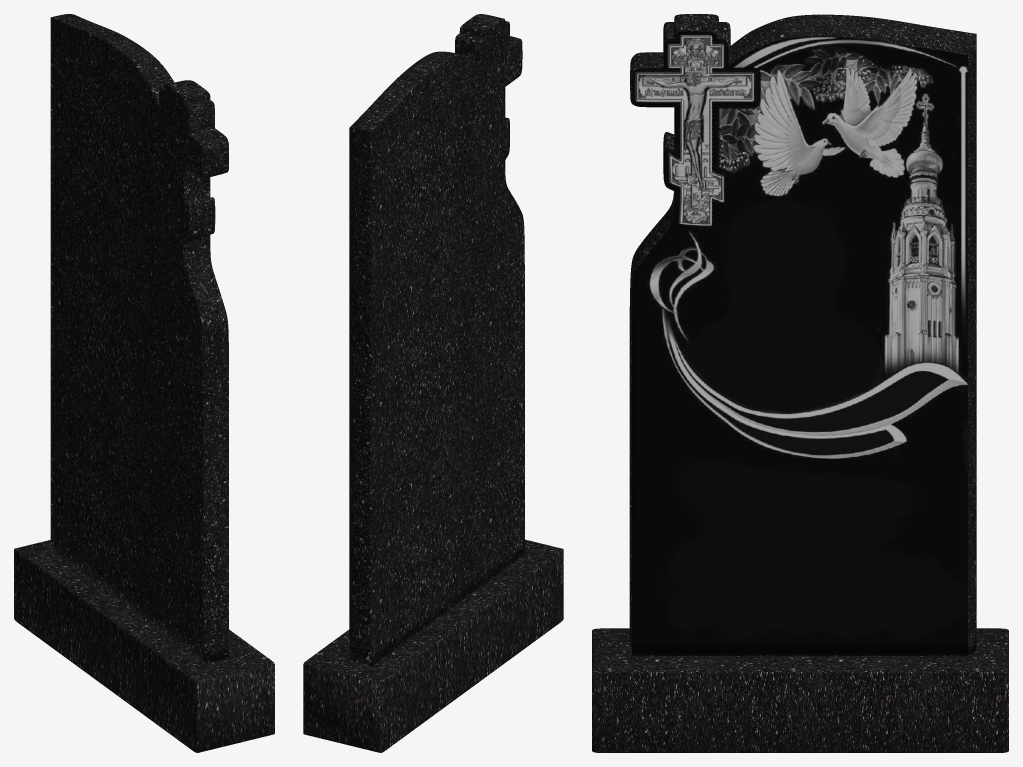
Rendered from Памятник Крест Голубь [granite_1_orthodox] (100).glb.
3 renders of one model, left to right at view 1: azimuth 30°, elevation 25°; view 2: azimuth 150°, elevation 25°; view 3: azimuth 270°, elevation 25°, orthographic. The views are drawn at different scales.
Parts seen in each view (by area): view 1: Plane, Куб.004; view 2: Plane, Куб.004; view 3: Plane, Куб.004.
Boxes of the visible parts, x1,y1,x2,y2 form: Plane: (50, 14, 228, 664); Куб.004: (14, 540, 274, 752); Plane: (349, 14, 524, 666); Куб.004: (303, 539, 563, 752); Plane: (629, 14, 976, 655); Куб.004: (592, 628, 1008, 752).
Bounding box in the file's own units: 0.15 × 1.13 × 0.6.
3 materials, 3 textured.
